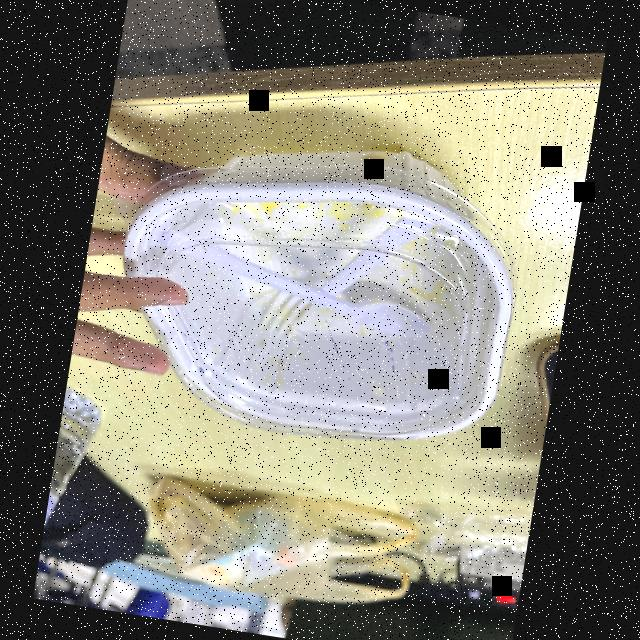plastic_box: (90, 106, 544, 468)
